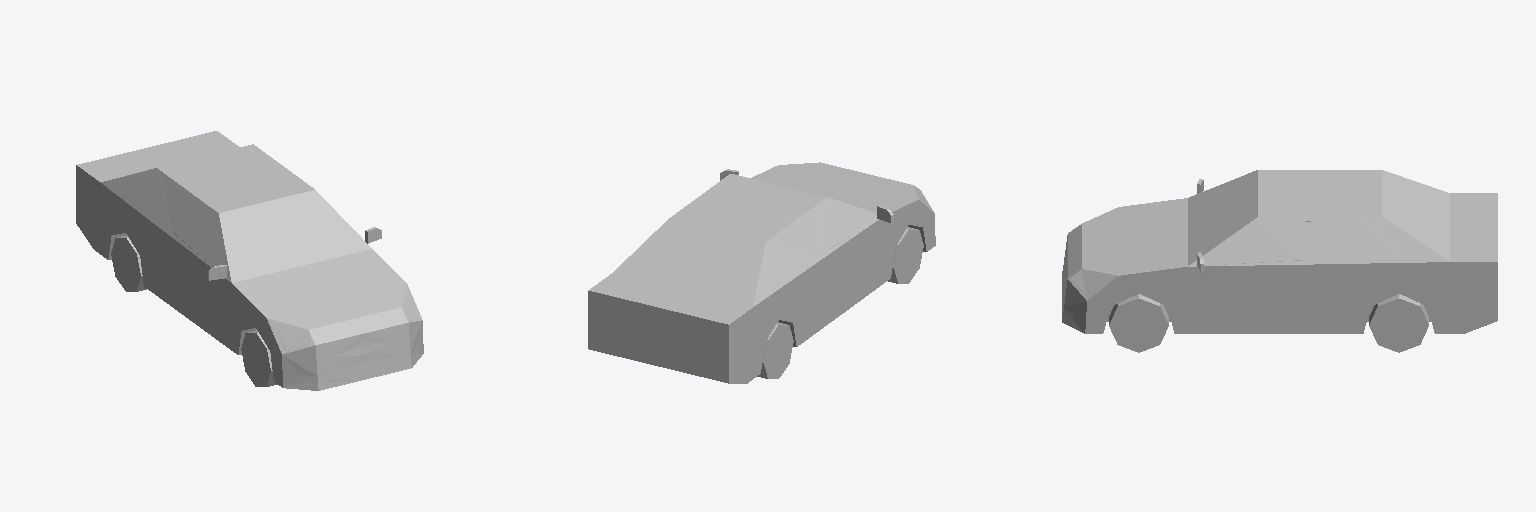
The model's file is sedan_03_yellow.obj.
The picture shows the model from 3 angles: view 1: azimuth 30°, elevation 25°; view 2: azimuth 150°, elevation 25°; view 3: azimuth 270°, elevation 25°; orthographic projection.
Parts seen in each view (by area): view 1: Sedan_03_Yellow, Wheel_RR, Wheel_FR; view 2: Sedan_03_Yellow, Wheel_RR, Wheel_FR; view 3: Sedan_03_Yellow, Wheel_FL, Wheel_RL.
Boxes of the visible parts, x1=… form: Sedan_03_Yellow: x1=76, y1=131, x2=423, y2=390; Wheel_RR: x1=111, y1=235, x2=146, y2=291; Wheel_FR: x1=241, y1=330, x2=277, y2=386; Sedan_03_Yellow: x1=588, y1=162, x2=935, y2=383; Wheel_RR: x1=757, y1=322, x2=793, y2=378; Wheel_FR: x1=888, y1=227, x2=923, y2=283; Sedan_03_Yellow: x1=1062, y1=170, x2=1497, y2=333; Wheel_FL: x1=1109, y1=294, x2=1168, y2=352; Wheel_RL: x1=1369, y1=294, x2=1428, y2=352.
Bounding box in the file's own units: 0.9533 × 0.6618 × 2.09.